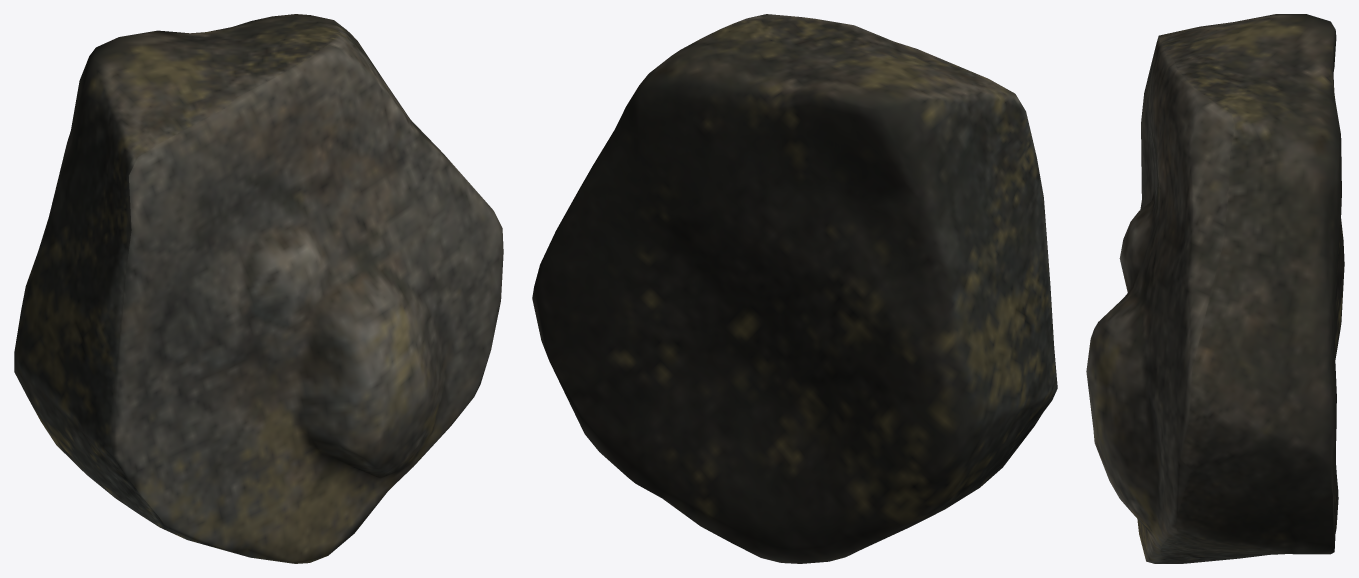
File: rock_small_06.obj
The picture shows the model from 3 angles, left to right: view 1: azimuth 30°, elevation 25°; view 2: azimuth 150°, elevation 25°; view 3: azimuth 270°, elevation 25°; orthographic projection. The views are drawn at different scales.
Visible parts, largest first — view 1: rock_small_06; view 2: rock_small_06; view 3: rock_small_06.
Boxes of the visible parts, x1,y1,x2,y2 form: rock_small_06: (14, 14, 503, 563); rock_small_06: (532, 14, 1057, 563); rock_small_06: (1086, 14, 1344, 563).
Bounding box in the file's own units: 5.1 × 5.5 × 2.63.
Materials: 1 (1 with a texture image).
